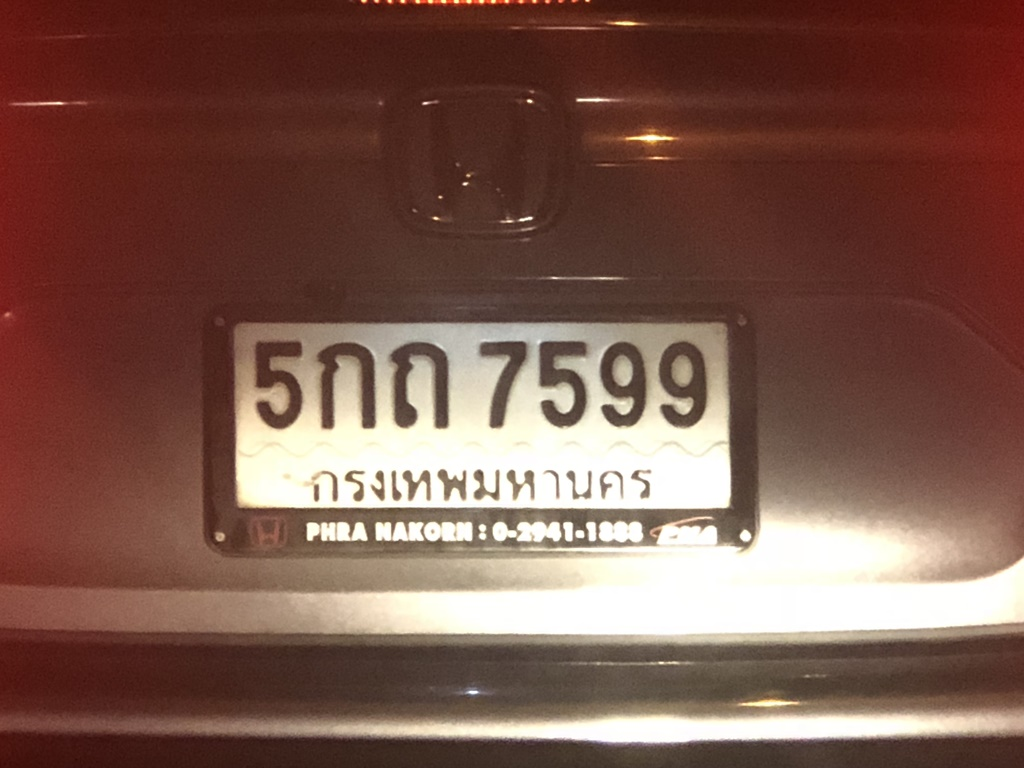nine: (643, 325, 717, 436), (587, 331, 656, 430)
